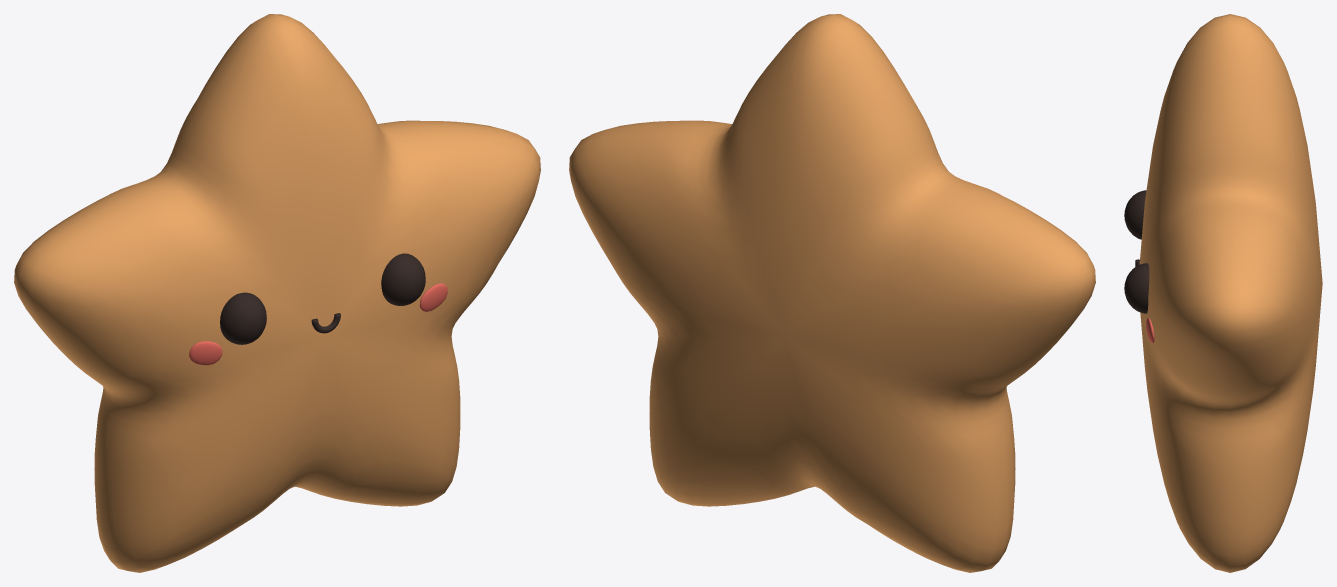
The model's file is star.glb.
3 views of the same model, side by side, from view 1: azimuth 30°, elevation 25°; view 2: azimuth 150°, elevation 25°; view 3: azimuth 270°, elevation 25° (orthographic). The views are drawn at different scales.
Parts seen in each view (by area): view 1: Star body_2, Eyes_3, Sphere_0; view 2: Star body_2; view 3: Star body_2, Eyes_3.
Boxes of the visible parts, x1,y1,x2,y2 form: Star body_2: (14,14,540,572); Eyes_3: (220,253,425,344); Sphere_0: (189,283,447,365); Star body_2: (569,14,1095,572); Star body_2: (1139,14,1322,572); Eyes_3: (1124,190,1149,313).
Size of the model in its own units: 1.42 by 1.36 by 0.5018.
